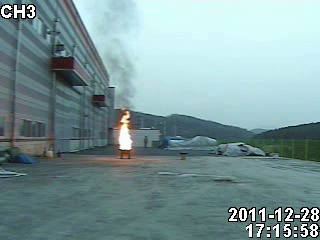fire: (117, 106, 132, 152)
